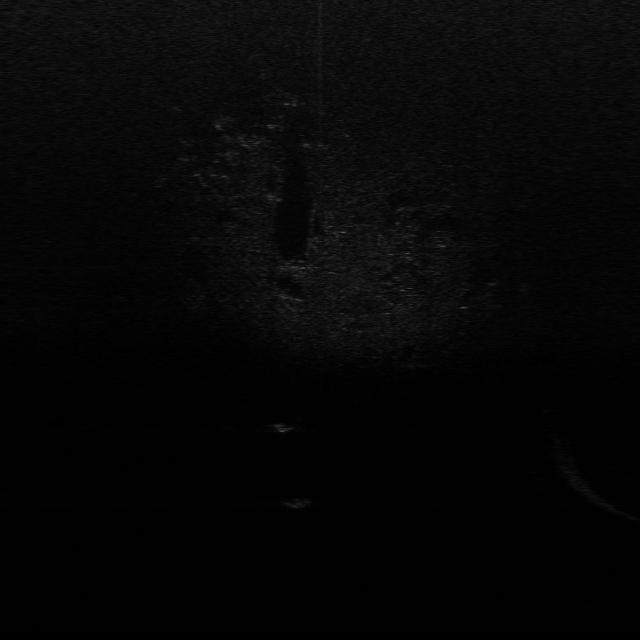cube: (283, 486, 318, 510)
square cage: (270, 413, 300, 435)
